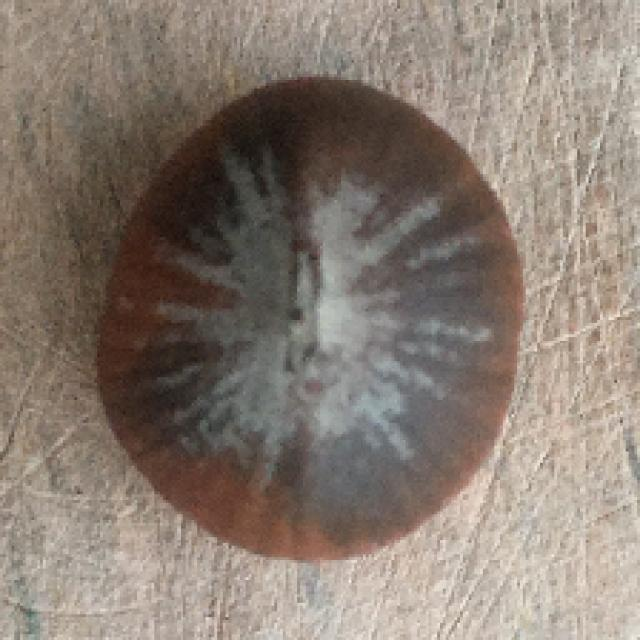damagedHazelnut: (112, 76, 530, 565)
